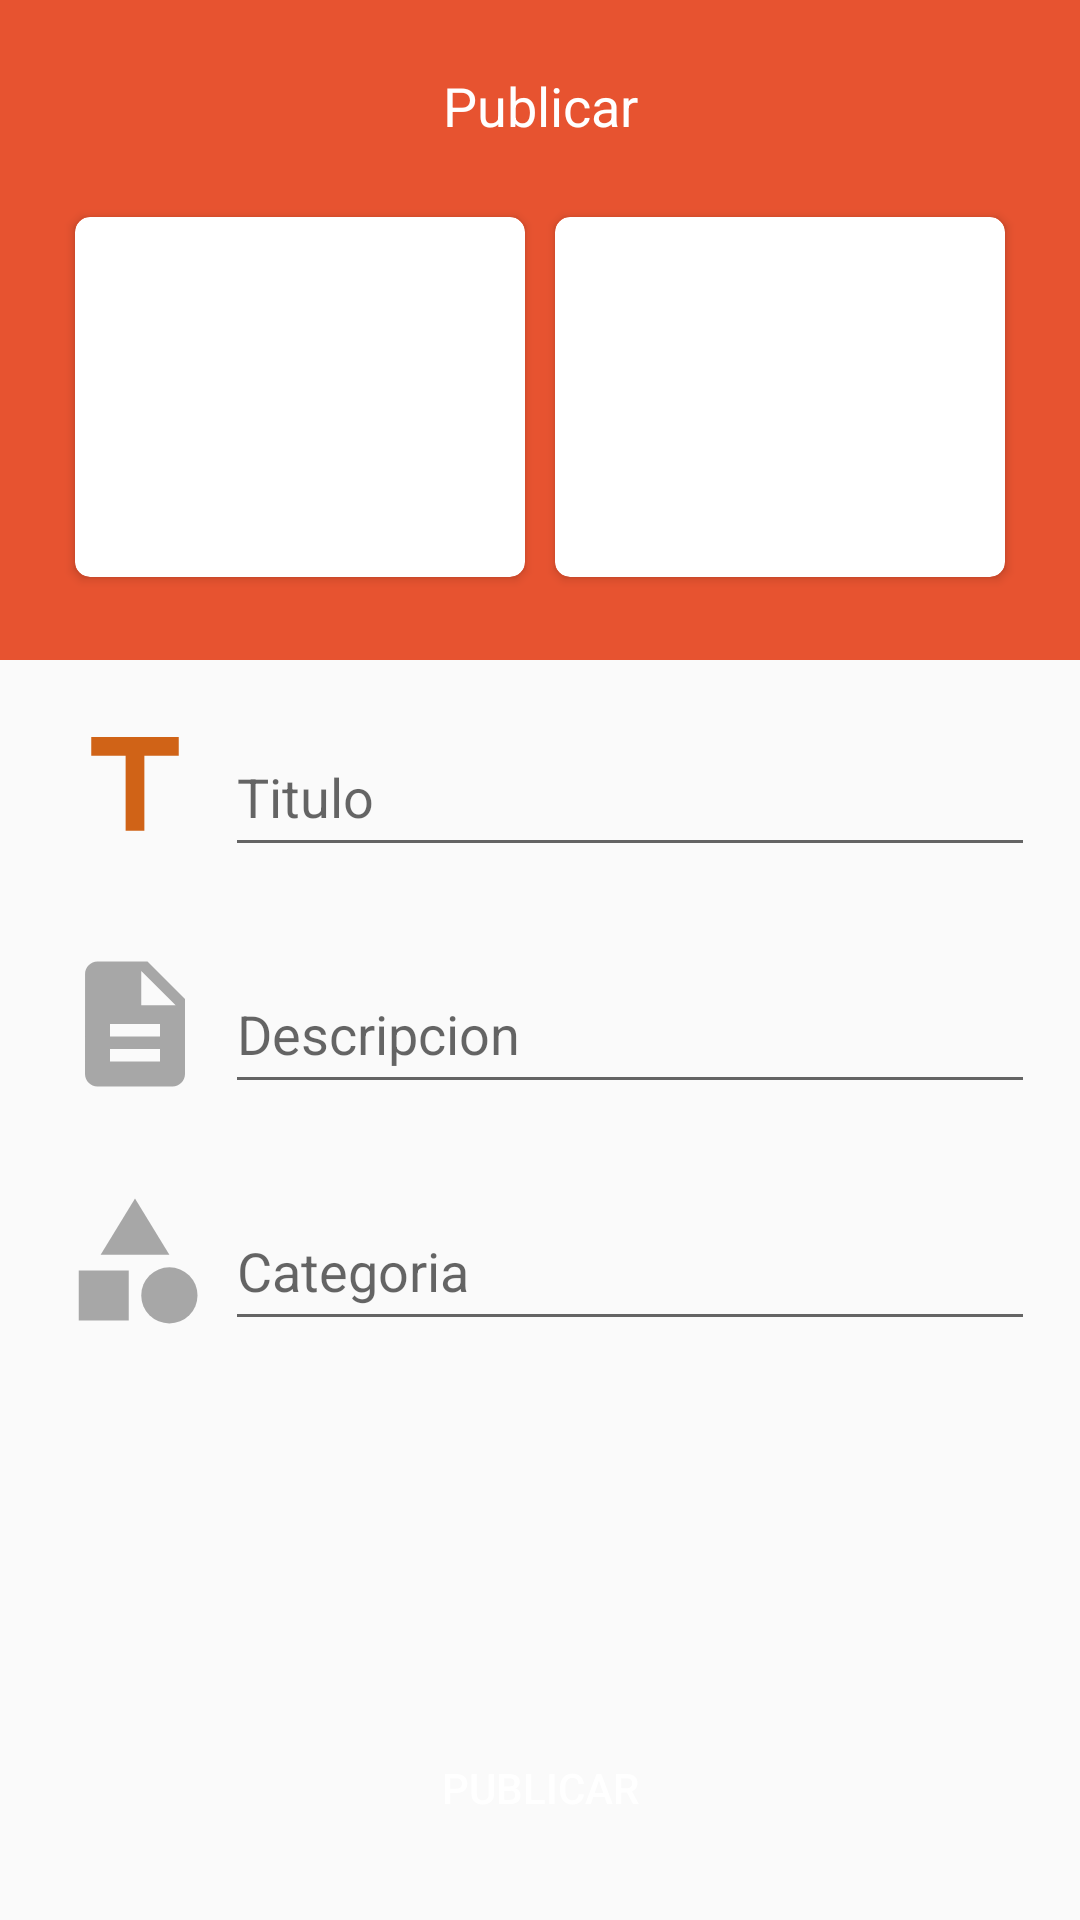

Where icons sit on this 1080×1920 app screen, as region(x1, y1, x2, y2):
category: region(79, 1199, 198, 1324)
description: region(85, 961, 185, 1087)
title: region(91, 737, 179, 831)
